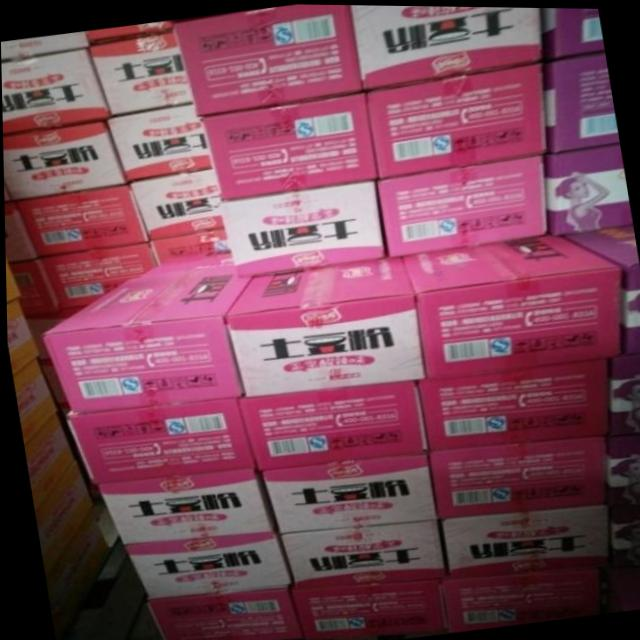box: (42, 257, 251, 412), (402, 232, 618, 375), (222, 255, 423, 397), (366, 61, 545, 179), (174, 3, 361, 113), (202, 93, 375, 197), (416, 356, 604, 450), (238, 376, 425, 470), (377, 153, 546, 255), (66, 396, 254, 485), (220, 179, 385, 276), (351, 4, 540, 87), (426, 434, 600, 517), (261, 451, 436, 532), (97, 466, 270, 545), (437, 502, 605, 576), (280, 519, 445, 588), (125, 531, 289, 598), (2, 119, 127, 200), (562, 223, 640, 352), (15, 184, 150, 255), (288, 578, 446, 638), (1, 48, 111, 134), (442, 568, 596, 628), (144, 585, 301, 640), (91, 32, 194, 115), (38, 241, 158, 308), (107, 105, 212, 181), (543, 142, 631, 232), (543, 51, 618, 153), (125, 167, 225, 238), (540, 6, 604, 61), (603, 349, 640, 434), (598, 430, 640, 502), (151, 227, 231, 263), (605, 498, 640, 565), (594, 565, 640, 612)
